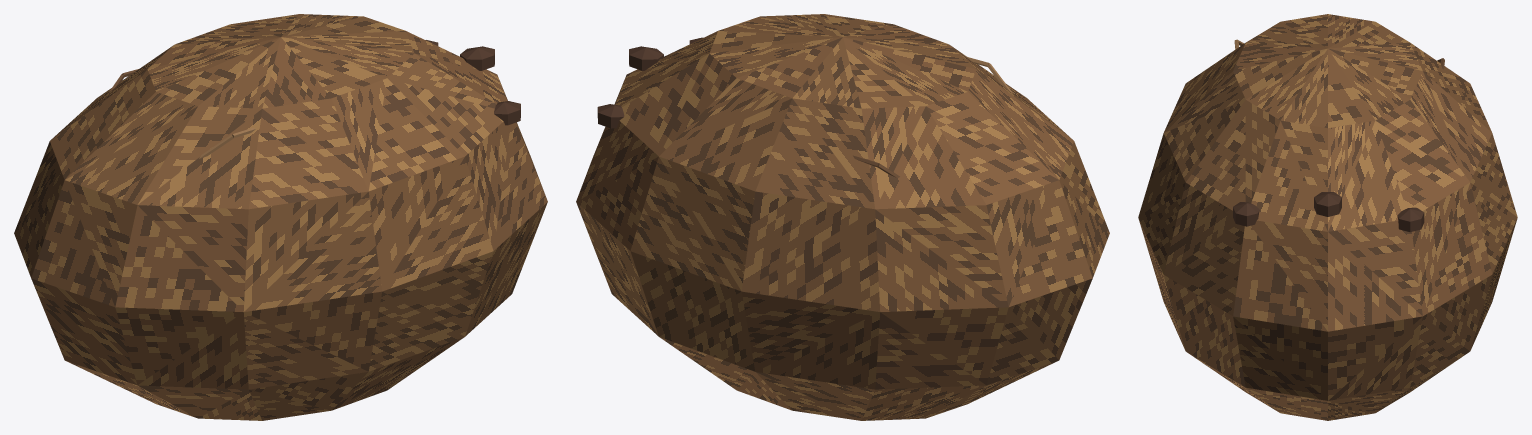
Rendered from coconut.glb.
3 renders of one model, left to right at view 1: azimuth 30°, elevation 25°; view 2: azimuth 150°, elevation 25°; view 3: azimuth 270°, elevation 25°, orthographic. The views are drawn at different scales.
Visible parts, largest first — view 1: block_oval fibrous coconut shell, block_recessed coconut eye (×2); view 2: block_oval fibrous coconut shell, block_recessed coconut eye (×2); view 3: block_oval fibrous coconut shell, block_recessed coconut eye (×3).
Part boxes in pixels (x1,y1,x2,y2): block_oval fibrous coconut shell: (14,14,547,420); block_recessed coconut eye (×2): (460,46,520,125); block_oval fibrous coconut shell: (576,14,1109,420); block_recessed coconut eye (×2): (597,46,663,128); block_oval fibrous coconut shell: (1138,14,1517,420); block_recessed coconut eye (×3): (1233,192,1424,232).
Bounding box in the file's own units: 0.175 × 0.1207 × 0.1229.
Materials: 1 (1 with a texture image).
